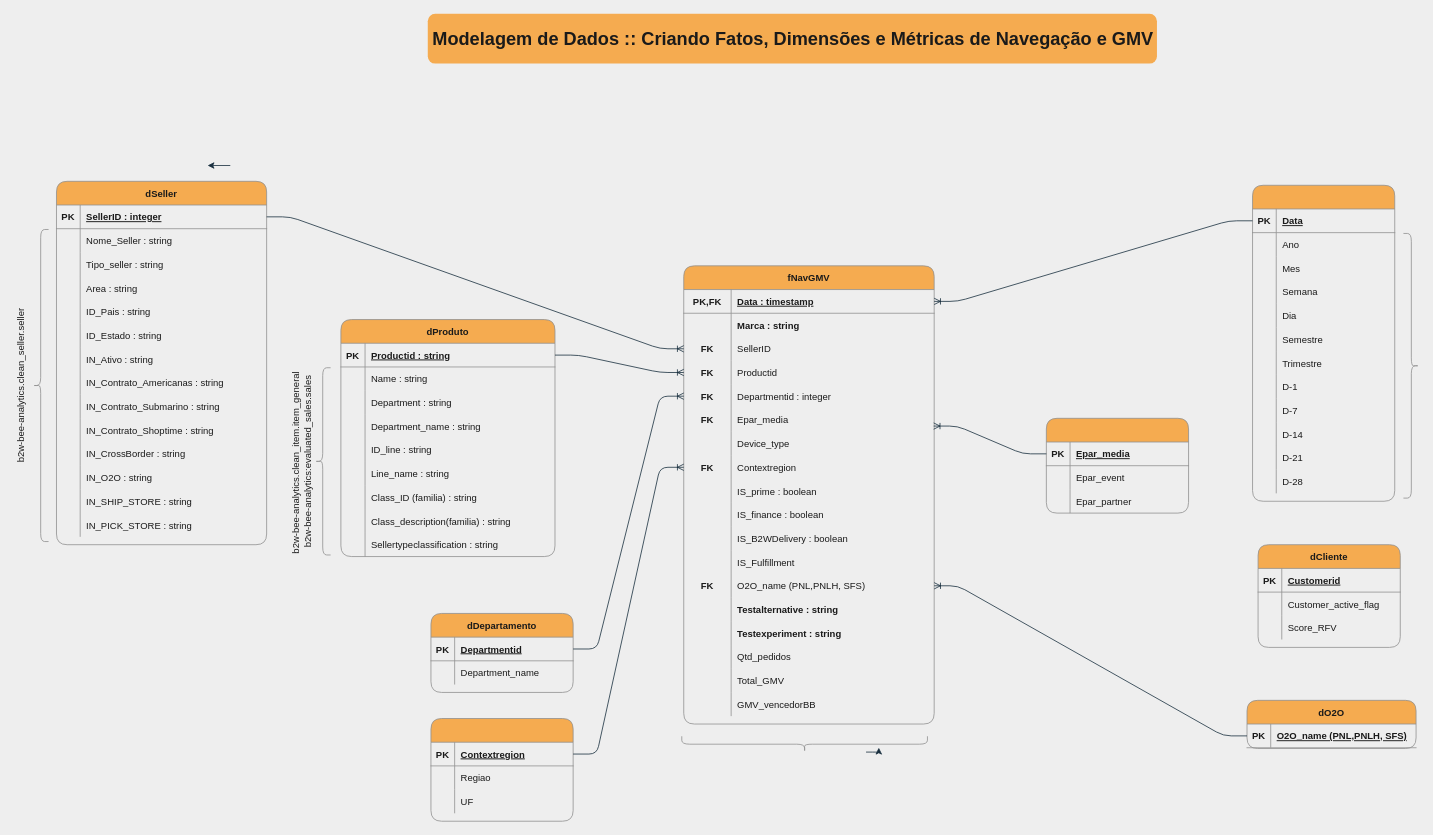
The diagram is 1433 pixels wide and 835 high, and some of its shapes have lost their labels. The shapes that lost their labels are listed below. From the top down, each one's box as (x1, y1, x2, y2) in pixels, then its label:
(1252, 184, 1395, 501): dCalendario
(1046, 418, 1189, 513): dMidia
(681, 735, 927, 752): utility-canto-251714:raw_buybox.ordenacao_pos_meso_1
(430, 718, 573, 821): dRegiao
